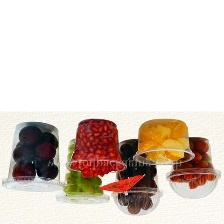glass: (0, 119, 67, 195), (108, 137, 165, 217), (160, 134, 224, 201), (53, 137, 110, 208), (64, 116, 130, 177), (127, 115, 197, 167)
